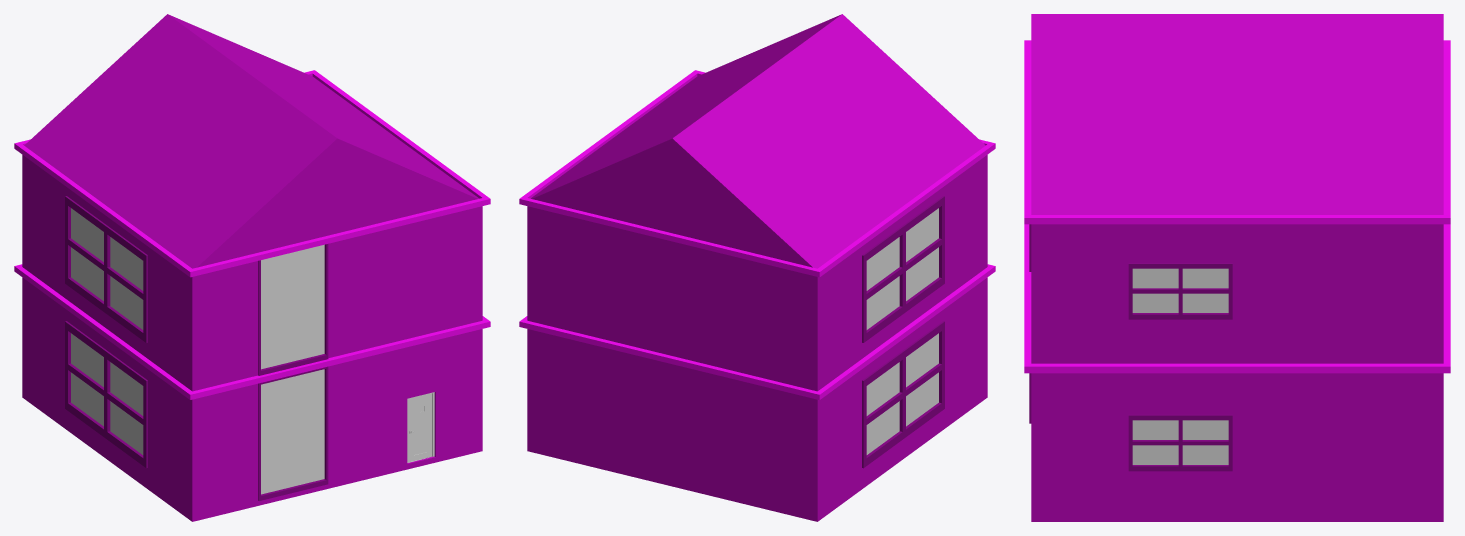
File: House_30.fbx
3 views of the same model, side by side, from view 1: azimuth 30°, elevation 25°; view 2: azimuth 150°, elevation 25°; view 3: azimuth 270°, elevation 25° (orthographic). The views are drawn at different scales.
Parts seen in each view (by area): view 1: House_30_Body; view 2: House_30_Body; view 3: House_30_Body.
Part boxes in pixels (left/top/right/bottom): House_30_Body: left=14, top=14, right=490, bottom=521; House_30_Body: left=519, top=14, right=995, bottom=521; House_30_Body: left=1024, top=14, right=1450, bottom=521.
Bounding box in the file's own units: 1054 × 1168 × 1069.
